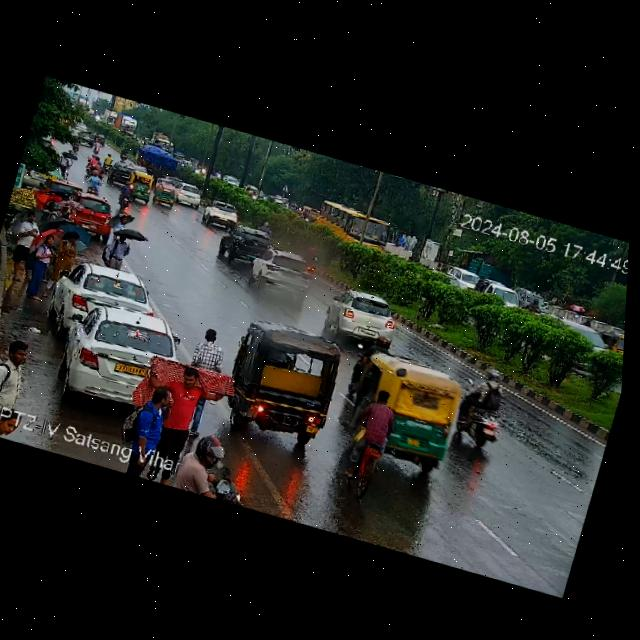bus: (301, 193, 398, 256)
car: (334, 341, 462, 467), (50, 298, 185, 415), (48, 254, 158, 342), (317, 282, 402, 346), (247, 240, 315, 301), (214, 217, 267, 264), (65, 192, 118, 236), (42, 172, 83, 211), (198, 197, 240, 230), (126, 169, 161, 204), (486, 284, 522, 313), (172, 182, 207, 209), (600, 326, 625, 361), (444, 264, 476, 290), (104, 160, 134, 187), (152, 184, 178, 208), (153, 176, 178, 195), (75, 130, 95, 147)
motorcycle: (339, 388, 403, 496), (180, 433, 266, 509), (452, 362, 516, 453), (345, 326, 389, 398), (115, 181, 140, 208), (83, 168, 106, 195), (85, 154, 105, 173), (523, 295, 543, 314), (90, 133, 104, 156), (101, 151, 113, 173), (119, 146, 131, 163), (258, 217, 271, 231)
person: (160, 359, 211, 440), (127, 378, 175, 452), (183, 325, 234, 392), (5, 211, 41, 285), (0, 335, 34, 403), (27, 231, 57, 299), (103, 229, 132, 269), (55, 228, 81, 271), (0, 414, 27, 444), (42, 200, 60, 221), (35, 182, 49, 204), (116, 214, 129, 229), (59, 152, 70, 169)
truck: (217, 310, 353, 450), (137, 143, 186, 180)
